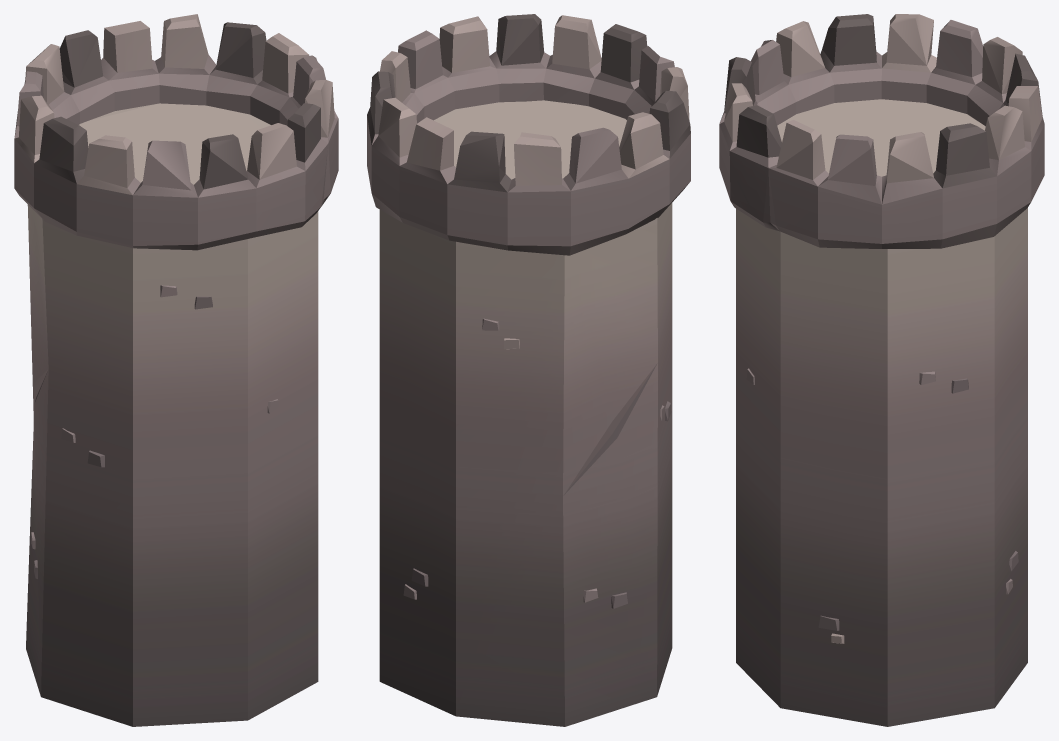
Rendered from Castle_Tower.fbx.
The picture shows the model from 3 angles, left to right: view 1: azimuth 30°, elevation 25°; view 2: azimuth 150°, elevation 25°; view 3: azimuth 270°, elevation 25°; orthographic projection.
Visible parts, largest first — view 1: Castle_Tower; view 2: Castle_Tower; view 3: Castle_Tower.
Boxes of the visible parts, box(x1,y1,x2,y2) form: Castle_Tower: box(14, 14, 338, 726); Castle_Tower: box(367, 14, 690, 726); Castle_Tower: box(719, 14, 1044, 726).
Size of the model in its own units: 1.7 by 3.39 by 1.7.
